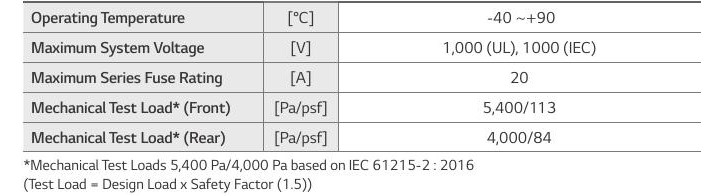table: (12, 1, 711, 159)
table column: (345, 3, 702, 156), (26, 3, 259, 155), (269, 4, 335, 155)
table row: (18, 35, 706, 61), (18, 6, 707, 31), (17, 125, 709, 149), (17, 96, 708, 120), (17, 68, 707, 91)
